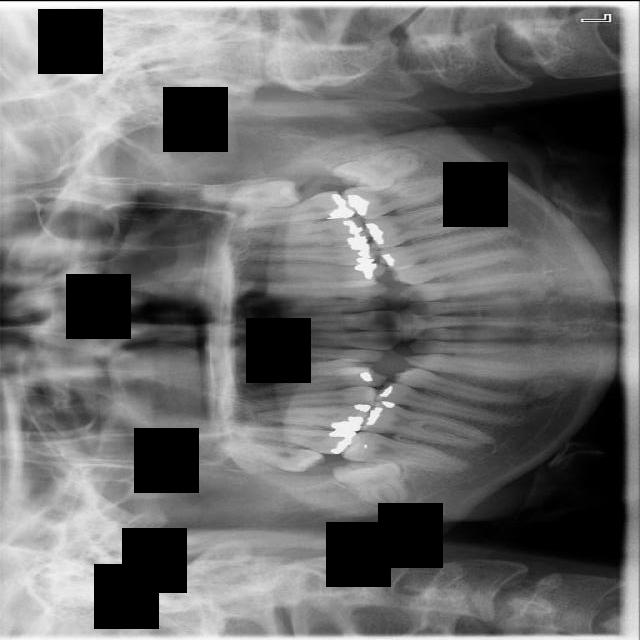3M ESPE Implant: (220, 437, 325, 474)
52: (357, 203, 407, 256), (307, 182, 356, 232), (342, 184, 394, 219), (343, 428, 391, 464), (364, 399, 405, 435), (334, 256, 386, 283), (322, 214, 370, 243), (309, 426, 356, 454), (328, 402, 372, 430), (374, 243, 415, 270), (377, 380, 417, 407), (336, 366, 387, 387), (335, 243, 374, 264)
73: (615, 11, 626, 20)
BioHorizons Implant: (220, 188, 356, 230)
BioLife Implant: (198, 174, 302, 214)
Biomet 3i Implant: (328, 136, 426, 203)
Blue Sky Bio Implant: (340, 168, 463, 223)
Caries: (230, 423, 356, 454)
Implant: (339, 428, 470, 474)
Keystone Dental Implant: (332, 455, 409, 511)
